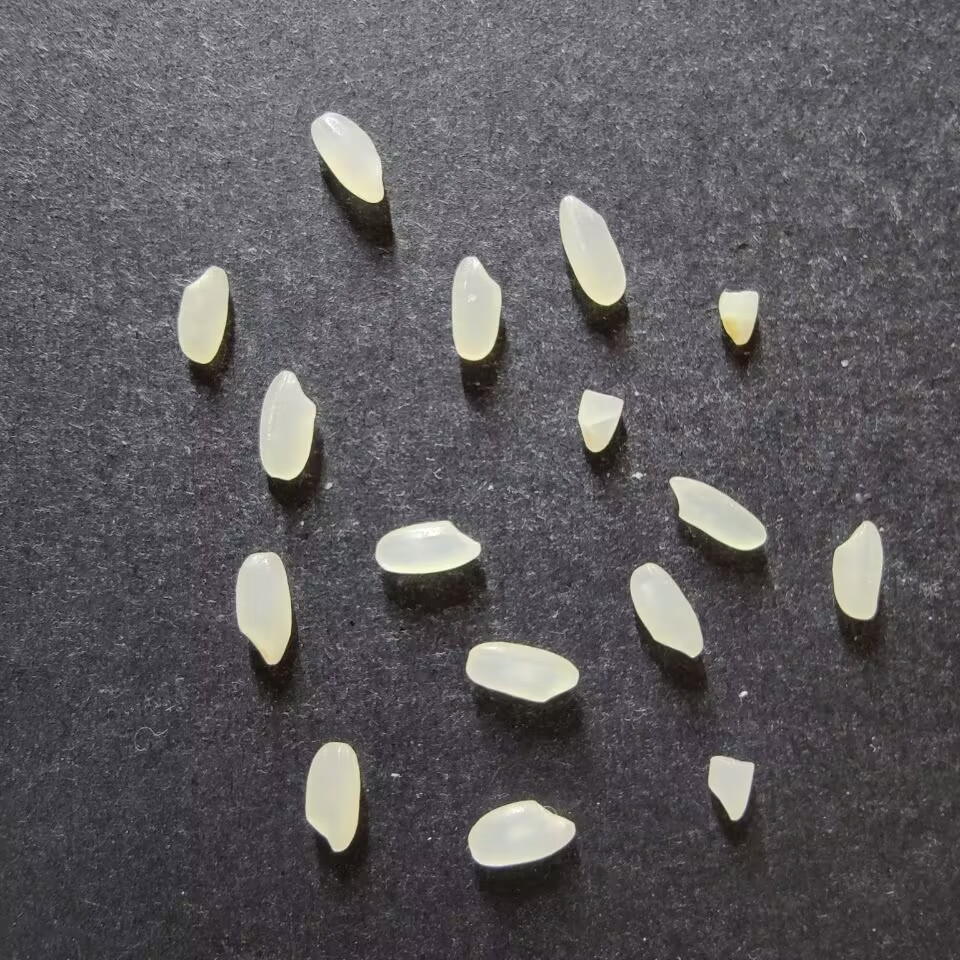broken: (706, 754, 755, 822), (577, 388, 623, 452), (717, 289, 759, 346)
rice: (668, 474, 767, 551), (558, 195, 626, 305), (467, 799, 575, 867), (628, 563, 703, 658), (310, 112, 385, 203), (465, 642, 578, 702), (234, 551, 291, 665), (257, 370, 316, 480), (304, 741, 359, 853), (374, 520, 480, 574), (450, 256, 501, 360), (831, 521, 883, 620), (176, 265, 228, 363)
